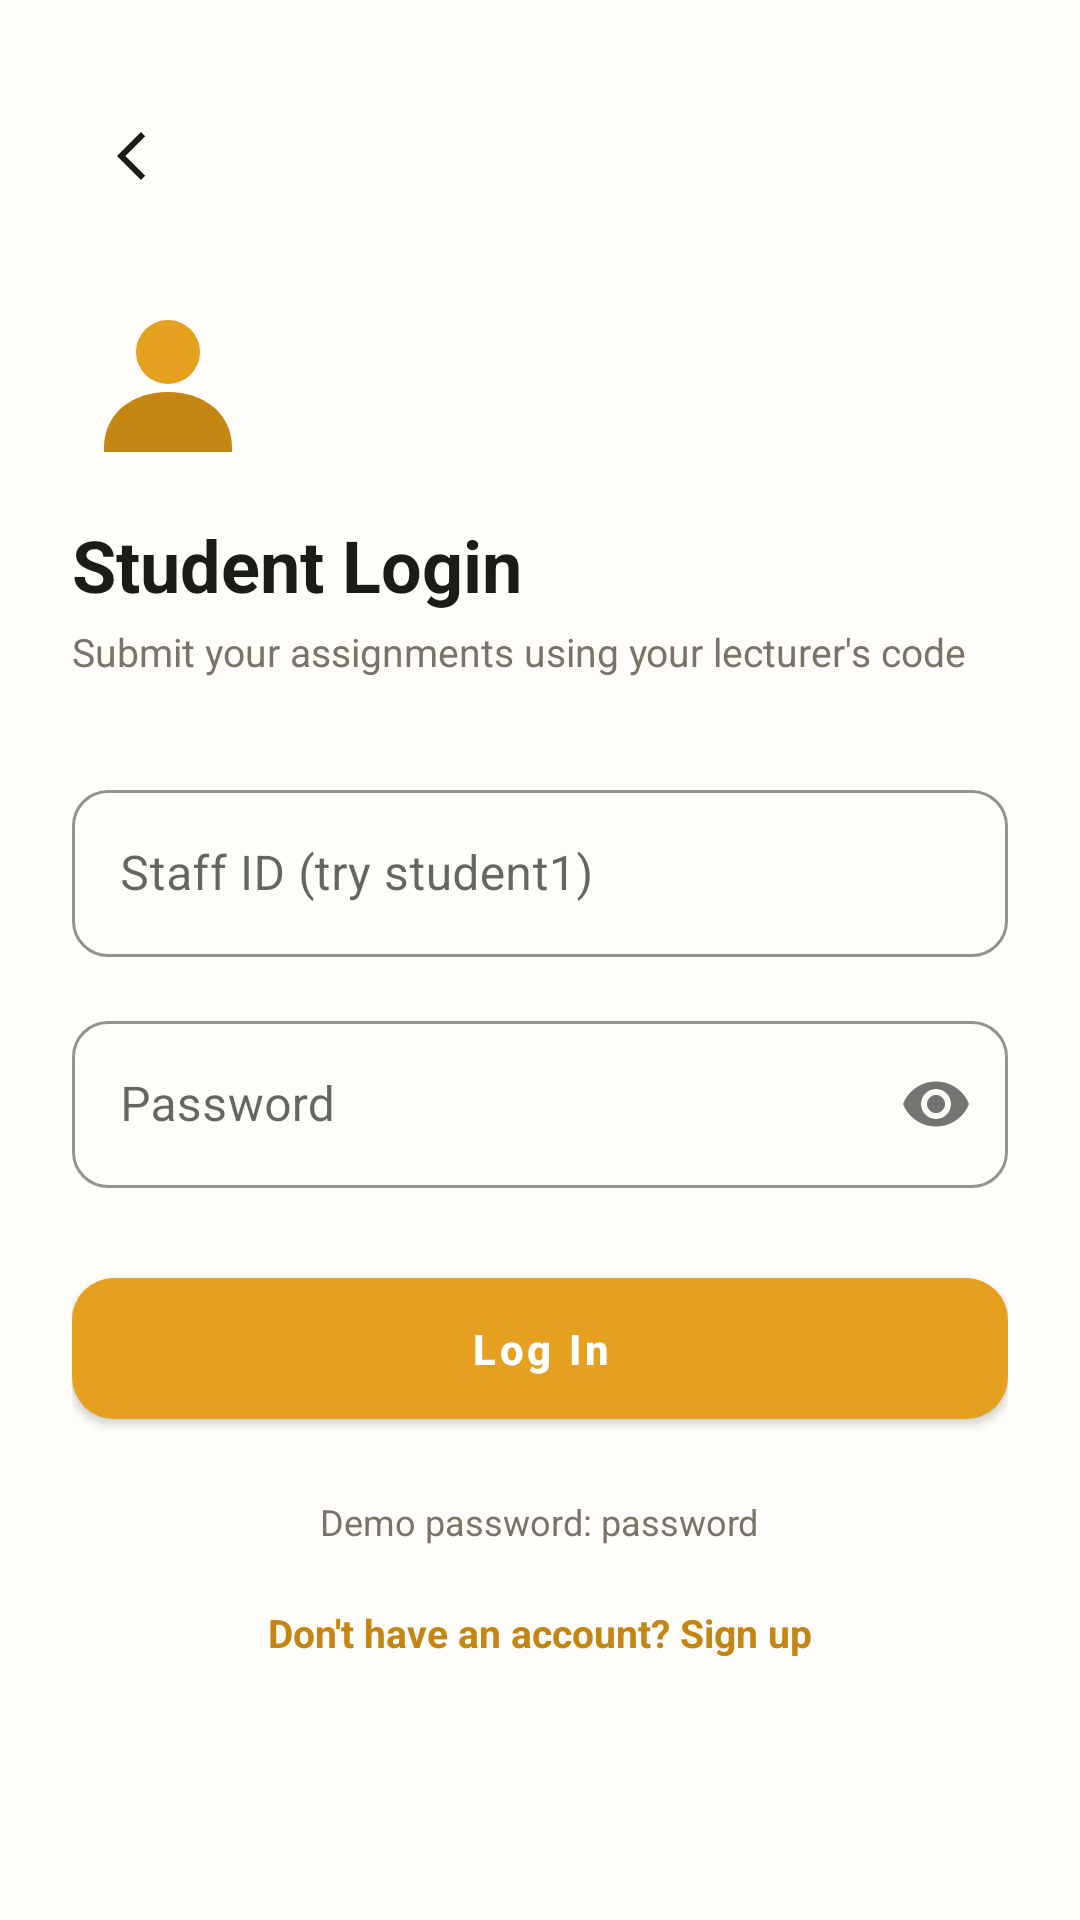

Where icons sit on this 1080x1920 app screen, as (x1, y1, x2, y2):
Back: (117, 132, 145, 180)
